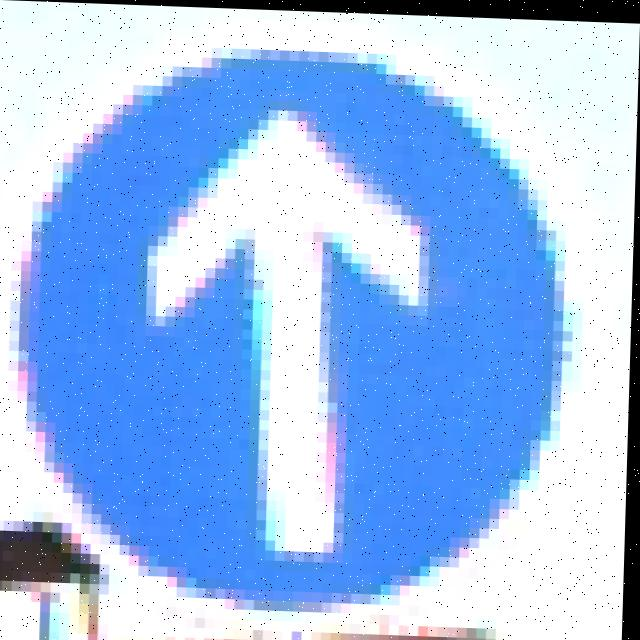compulsory_ahead: (42, 34, 577, 617)
